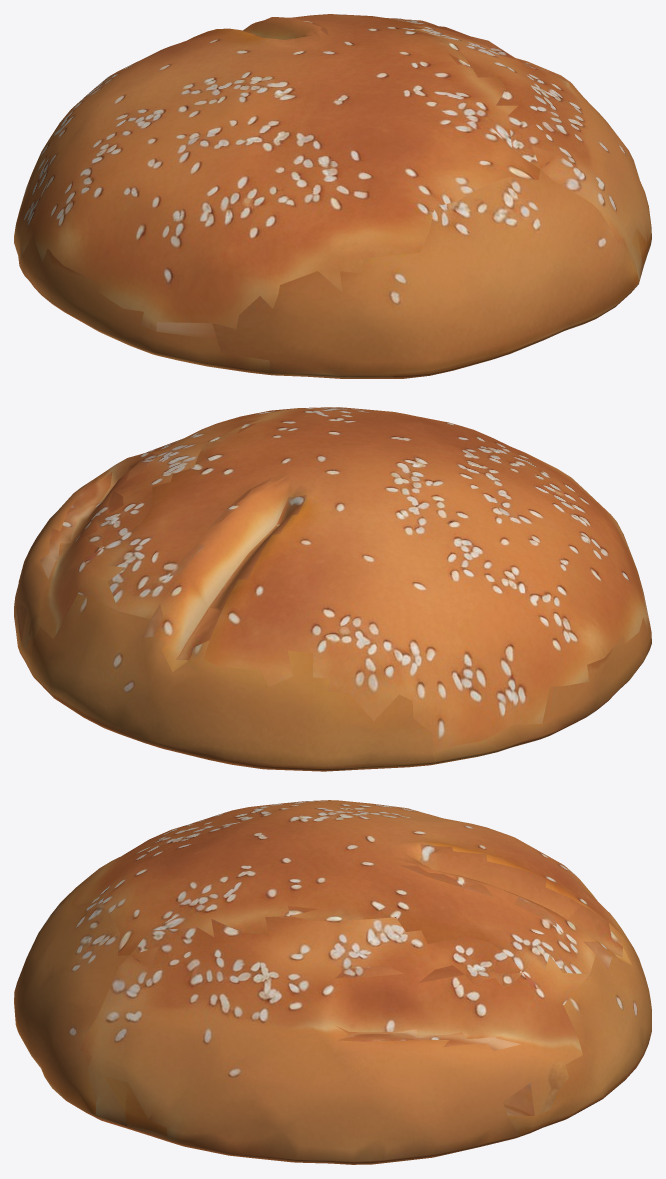
Rendered from pan_yema.obj.
The picture shows the model from 3 angles, top to bottom: view 1: azimuth 30°, elevation 25°; view 2: azimuth 150°, elevation 25°; view 3: azimuth 270°, elevation 25°; orthographic projection.
Parts seen in each view (by area): view 1: pan_yema; view 2: pan_yema; view 3: pan_yema.
Boxes of the visible parts, left/top/right/bottom form: pan_yema: left=14, top=14, right=651, bottom=378; pan_yema: left=14, top=407, right=651, bottom=771; pan_yema: left=14, top=800, right=651, bottom=1164.
Bounding box in the file's own units: 0.2011 × 0.0745 × 0.2006.
